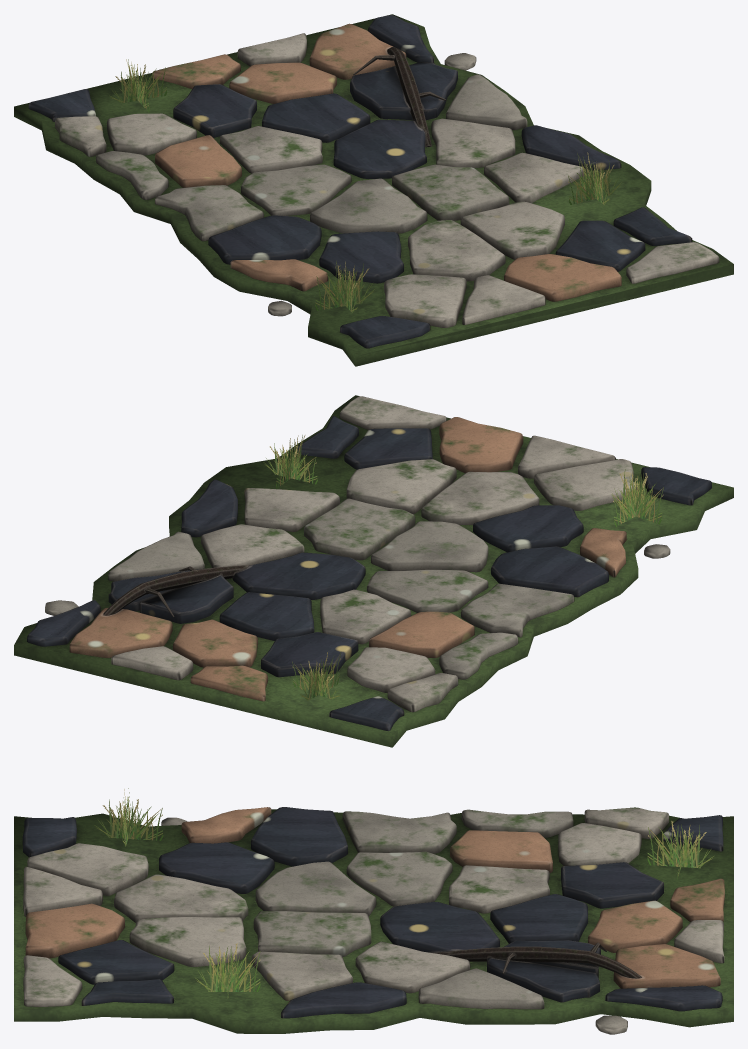
The model's file is PathCrazyPaving.fbx.
The picture shows the model from 3 angles, top to bottom: view 1: azimuth 30°, elevation 25°; view 2: azimuth 150°, elevation 25°; view 3: azimuth 270°, elevation 25°; orthographic projection. The views are drawn at different scales.
Visible parts, largest first — view 1: PathCrazyPaving_Main, PathCrazyPaving_Leaves; view 2: PathCrazyPaving_Main, PathCrazyPaving_Leaves; view 3: PathCrazyPaving_Main, PathCrazyPaving_Leaves.
Part boxes in pixels (<box>): PathCrazyPaving_Main: <box>14,14,733,366</box>; PathCrazyPaving_Leaves: <box>109,59,621,312</box>; PathCrazyPaving_Main: <box>14,395,733,747</box>; PathCrazyPaving_Leaves: <box>263,435,663,700</box>; PathCrazyPaving_Main: <box>14,807,733,1034</box>; PathCrazyPaving_Leaves: <box>94,788,713,998</box>.
Size of the model in its own units: 721 by 92.05 by 1020.
